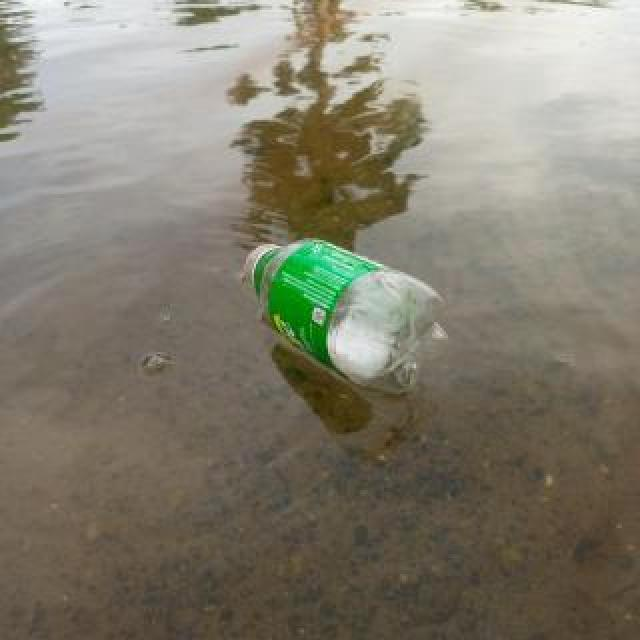bottle: (245, 234, 447, 396)
